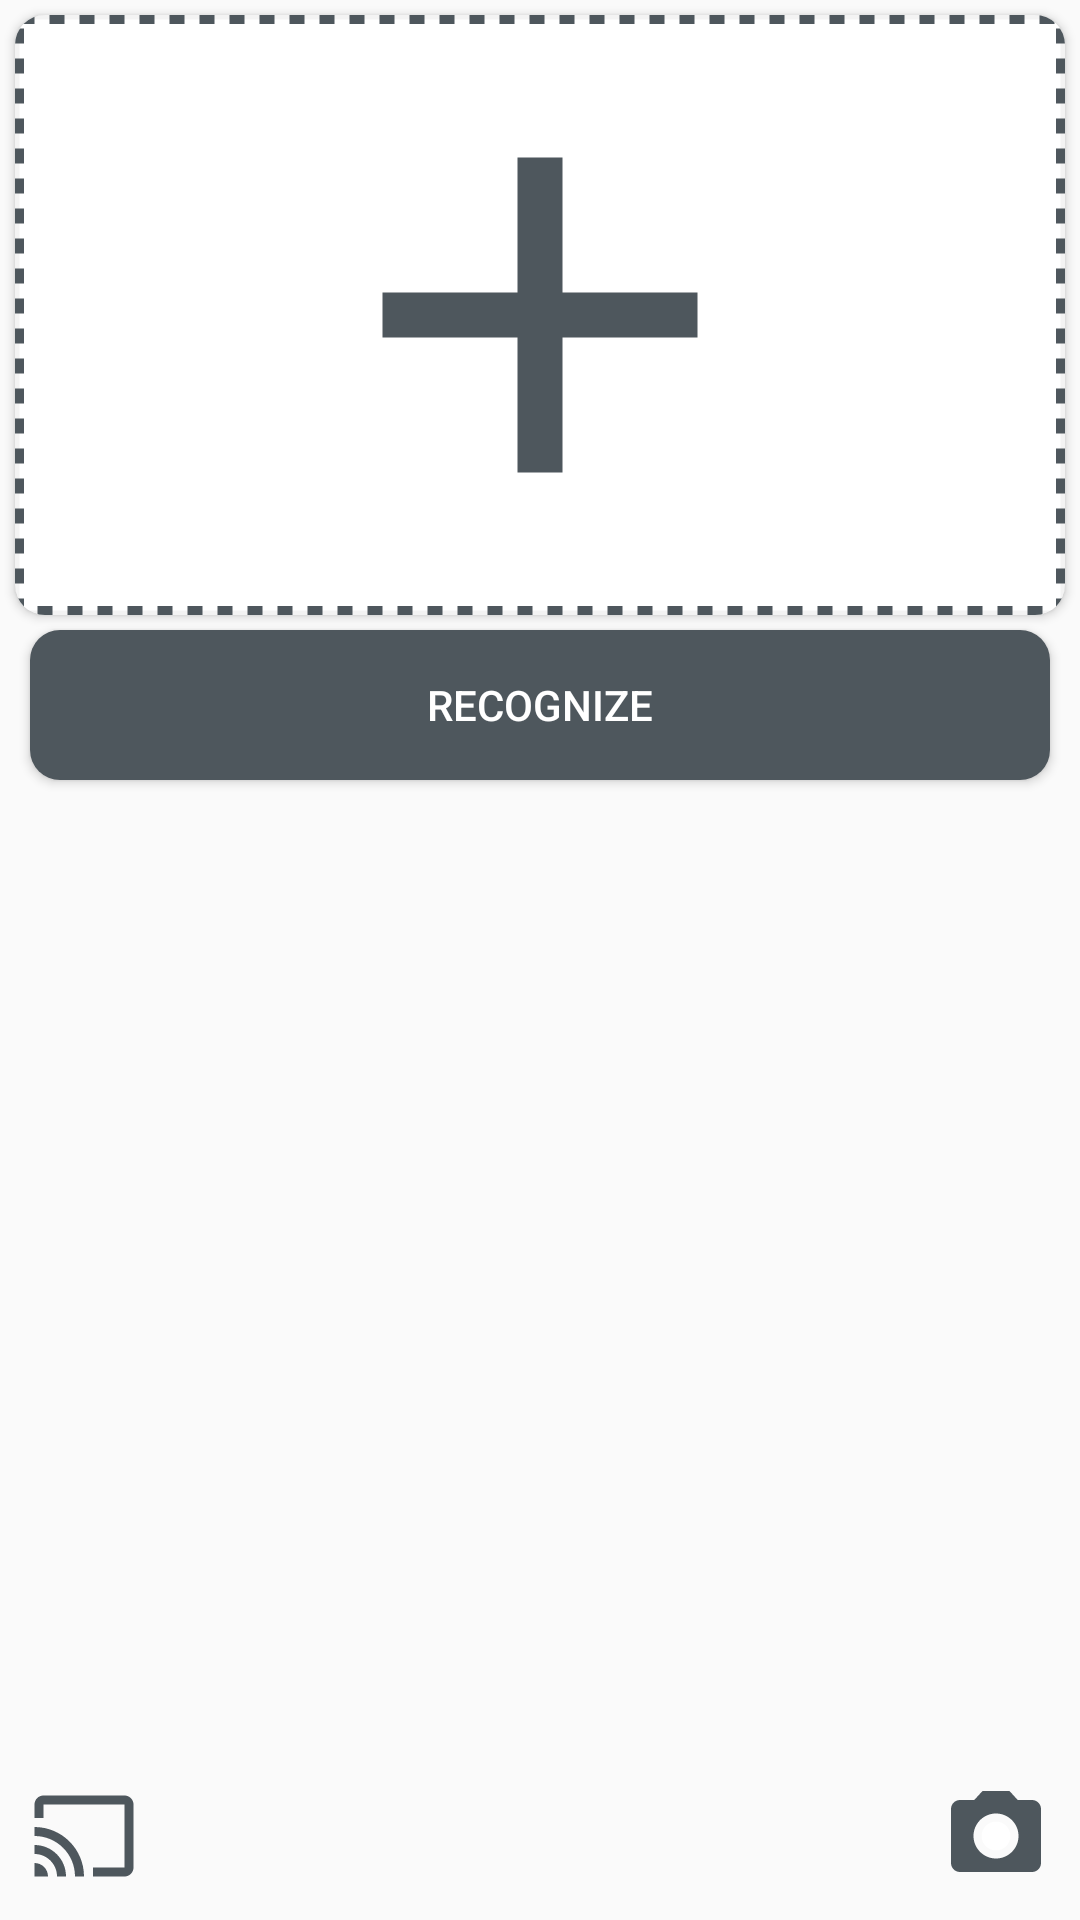

Icons on this 1080 x 1920 Android screen, each with the point to tap as point (x, y):
camera: point (996, 1831)
